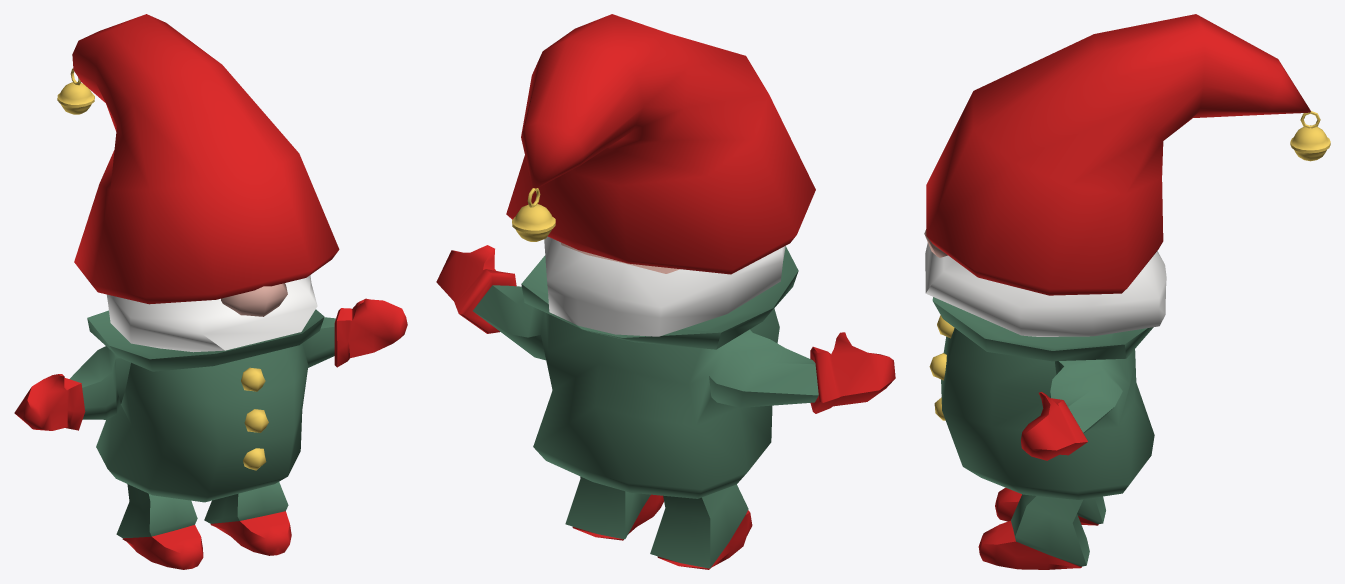
The model's file is Objet2_03.glb.
3 views of the same model, side by side, from view 1: azimuth 30°, elevation 25°; view 2: azimuth 150°, elevation 25°; view 3: azimuth 270°, elevation 25° (orthographic). The views are drawn at different scales.
Visible parts, largest first — view 1: Elf_2; view 2: Elf_2; view 3: Elf_2.
Boxes of the visible parts, bbox=[...] form: Elf_2: bbox=[14, 14, 407, 569]; Elf_2: bbox=[436, 14, 895, 569]; Elf_2: bbox=[924, 14, 1330, 569].
Size of the model in its own units: 117 by 137 by 98.52.
1 material, 1 textured.
